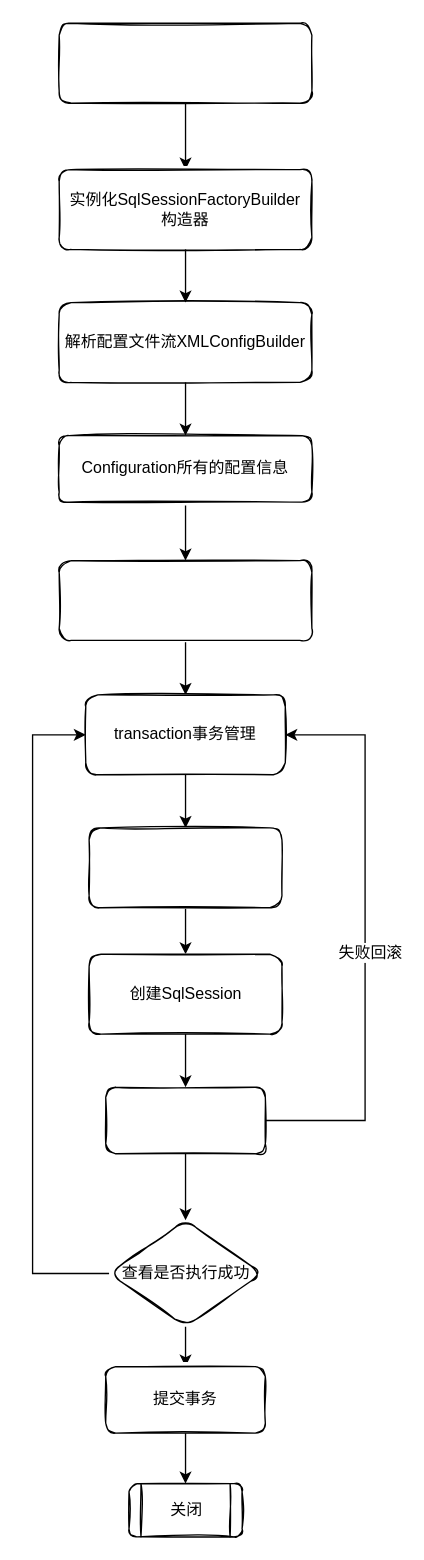
Some shapes in this 424 by 1560 pixel diagram are drawn without their labels. The centre of each missing label's shape, as x and y in pixels:
"Resources获取加载全局配置文件" belongs at point 185,62.
"SqlSessionFactory实例化" belongs at point 185,599.
"创建executor执行器" belongs at point 185,867.
"实现CRUD" belongs at point 184,1120.
